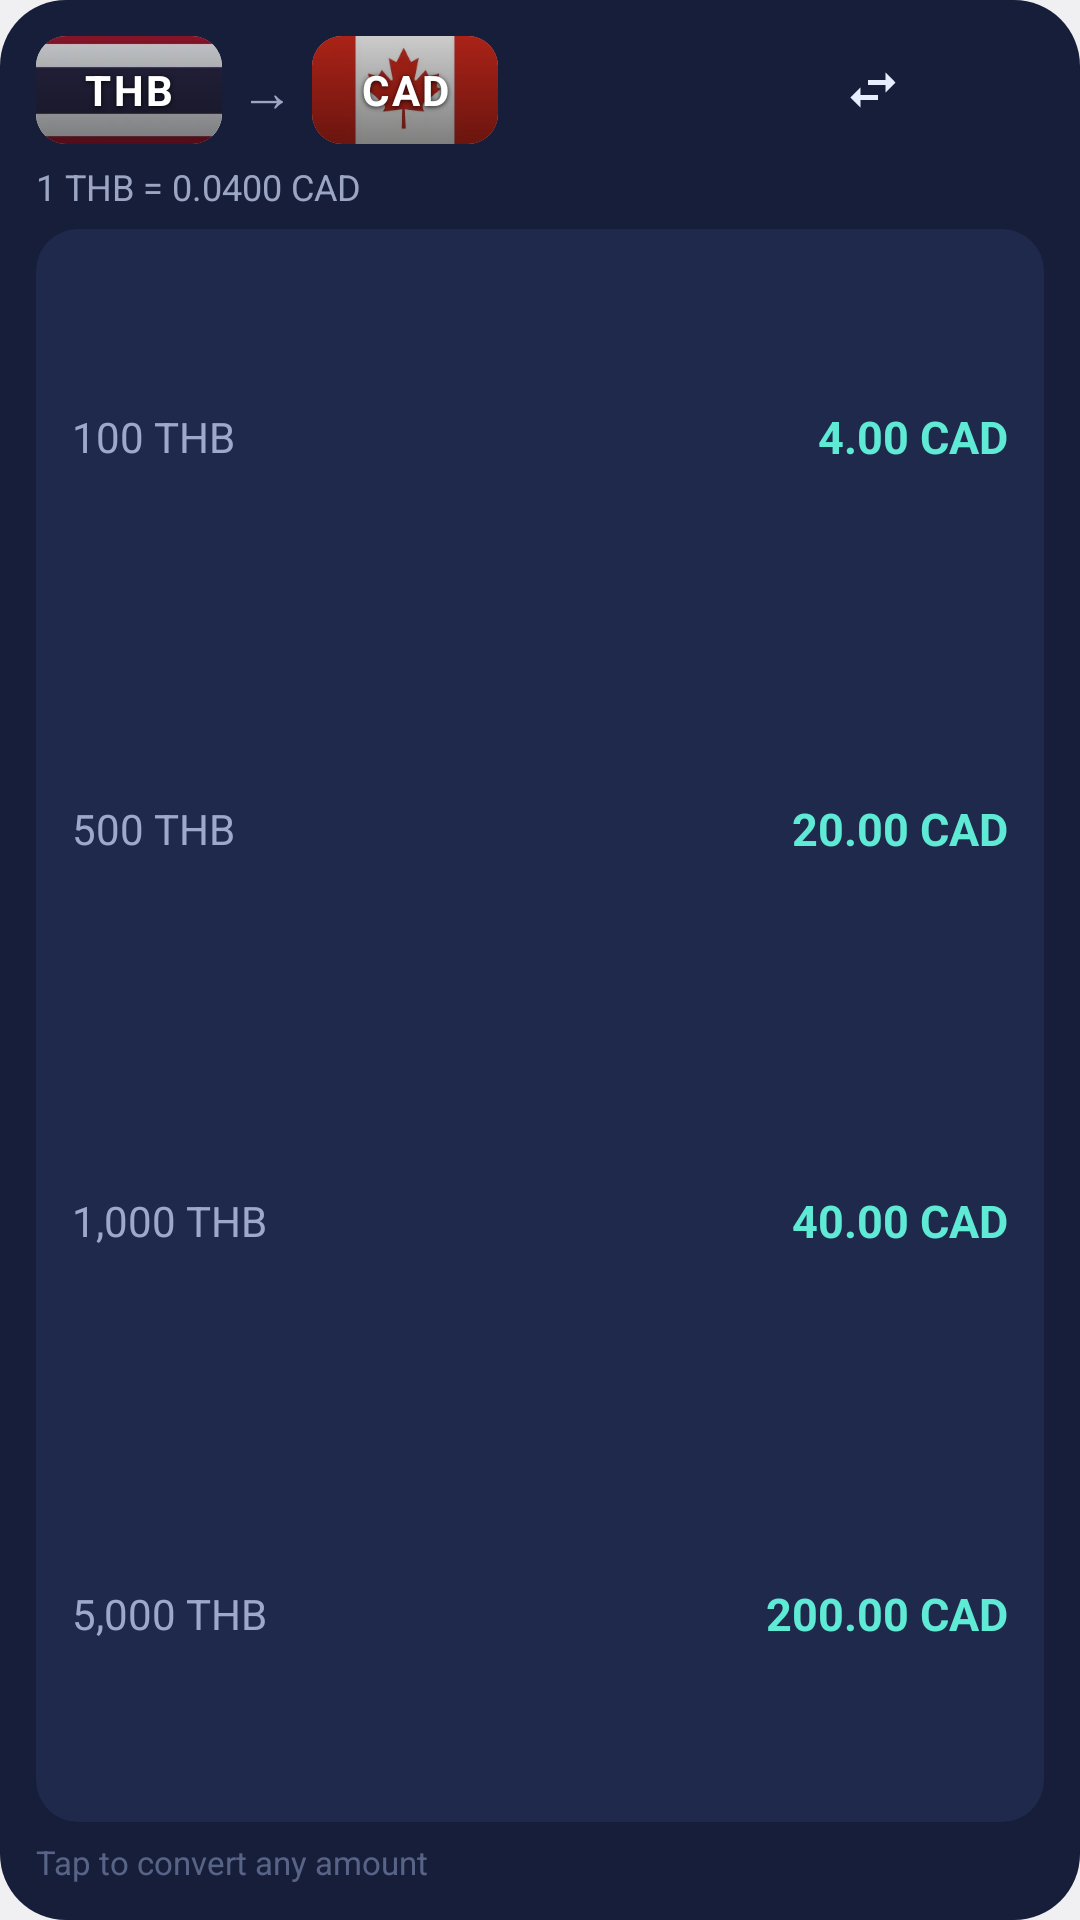

Where icons sit on this 1080 × 1920 app screen, as (x1, y1, x2, y2):
Swap currencies: (850, 72, 896, 108)
